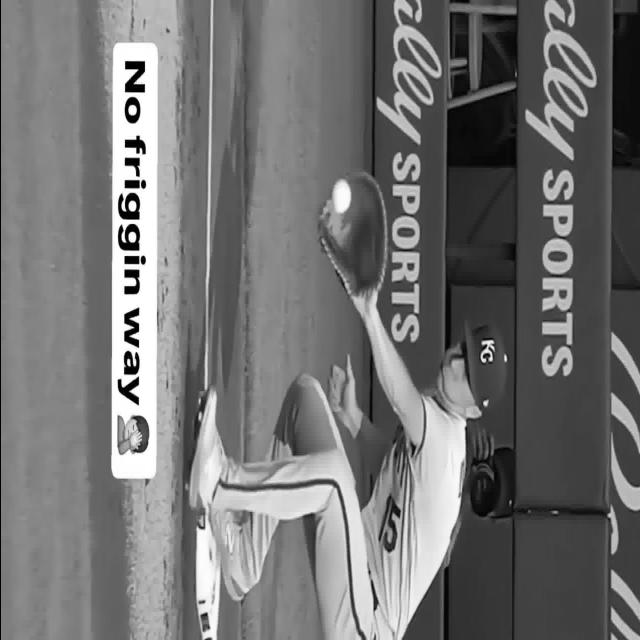base: (195, 509, 220, 640)
baseball: (331, 178, 350, 213)
baseball_glove: (316, 171, 386, 296)
shoe: (188, 387, 226, 509), (210, 509, 250, 600)
